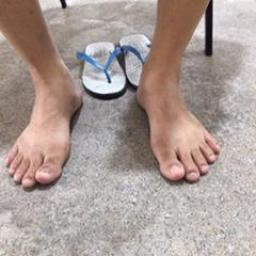Front View -Both Feet-: (3, 42, 226, 204)
